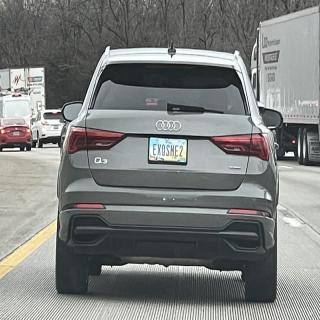license: (148, 136, 189, 167)
